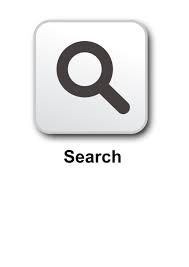searchIcon: (51, 38, 131, 119)
